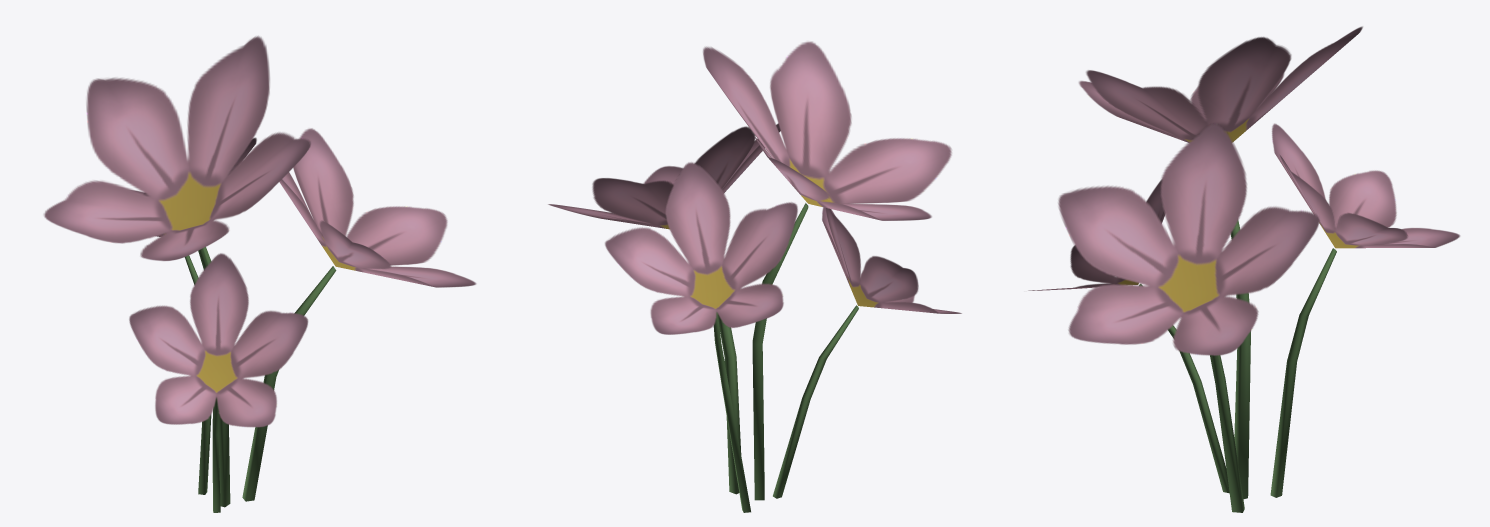
The model's file is Flower_4_Clump.gltf.
The picture shows the model from 3 angles, left to right: view 1: azimuth 30°, elevation 25°; view 2: azimuth 150°, elevation 25°; view 3: azimuth 270°, elevation 25°; orthographic projection. The views are drawn at different scales.
Visible parts, largest first — view 1: Flower_4_Clump; view 2: Flower_4_Clump; view 3: Flower_4_Clump.
Part boxes in pixels (x1,y1,x2,y2): Flower_4_Clump: (43,36,476,512); Flower_4_Clump: (548,41,961,512); Flower_4_Clump: (1028,26,1459,512).
Bounding box in the file's own units: 0.568 × 0.6011 × 0.4979.
1 material, 1 textured.
